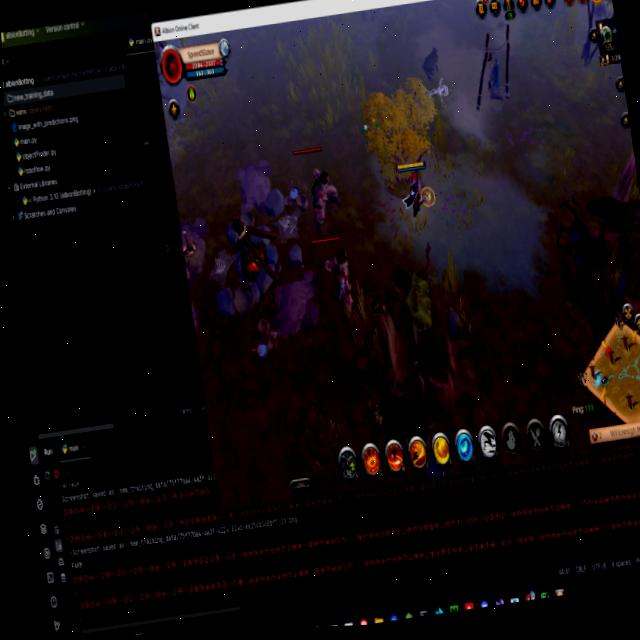ore: (305, 225, 366, 335), (291, 136, 342, 237), (417, 39, 447, 88)
red: (391, 153, 442, 227)
wisp caged: (598, 68, 640, 218)
